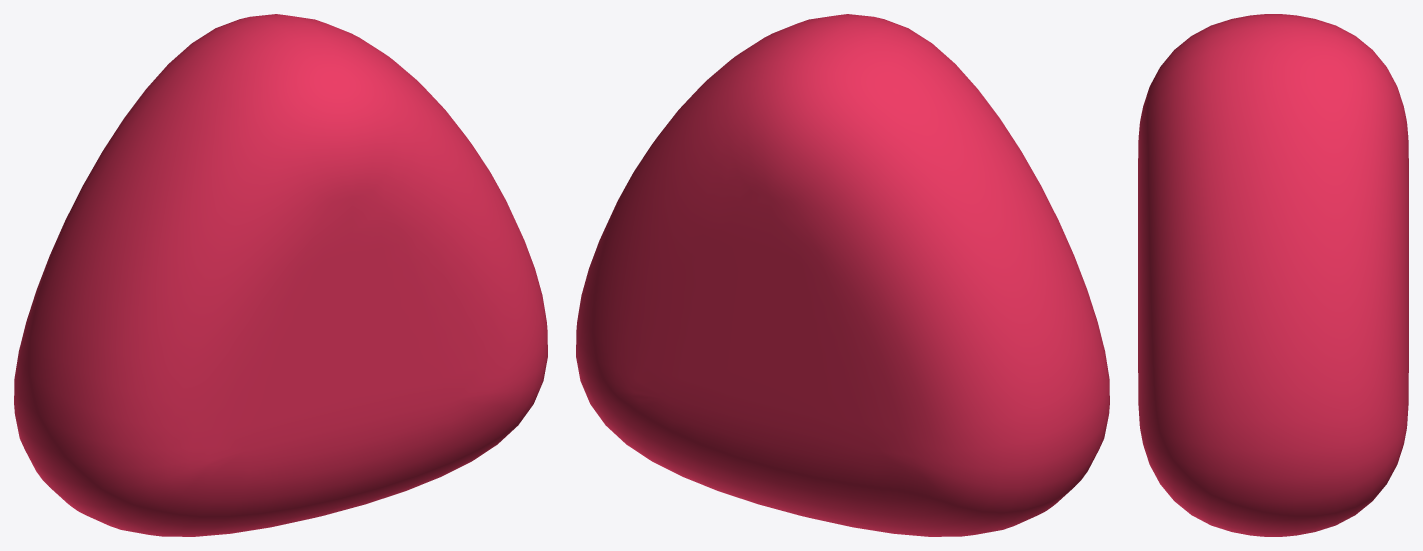
File: TriangleBubble.fbx
The picture shows the model from 3 angles, left to right: view 1: azimuth 30°, elevation 25°; view 2: azimuth 150°, elevation 25°; view 3: azimuth 270°, elevation 25°; orthographic projection. The views are drawn at different scales.
Parts seen in each view (by area): view 1: TriangleBubble; view 2: TriangleBubble; view 3: TriangleBubble.
Part boxes in pixels (x1=…): TriangleBubble: x1=14, y1=14, x2=547, y2=536; TriangleBubble: x1=576, y1=14, x2=1109, y2=536; TriangleBubble: x1=1138, y1=14, x2=1408, y2=536.
Size of the model in its own units: 92.21 by 85.84 by 46.27.
